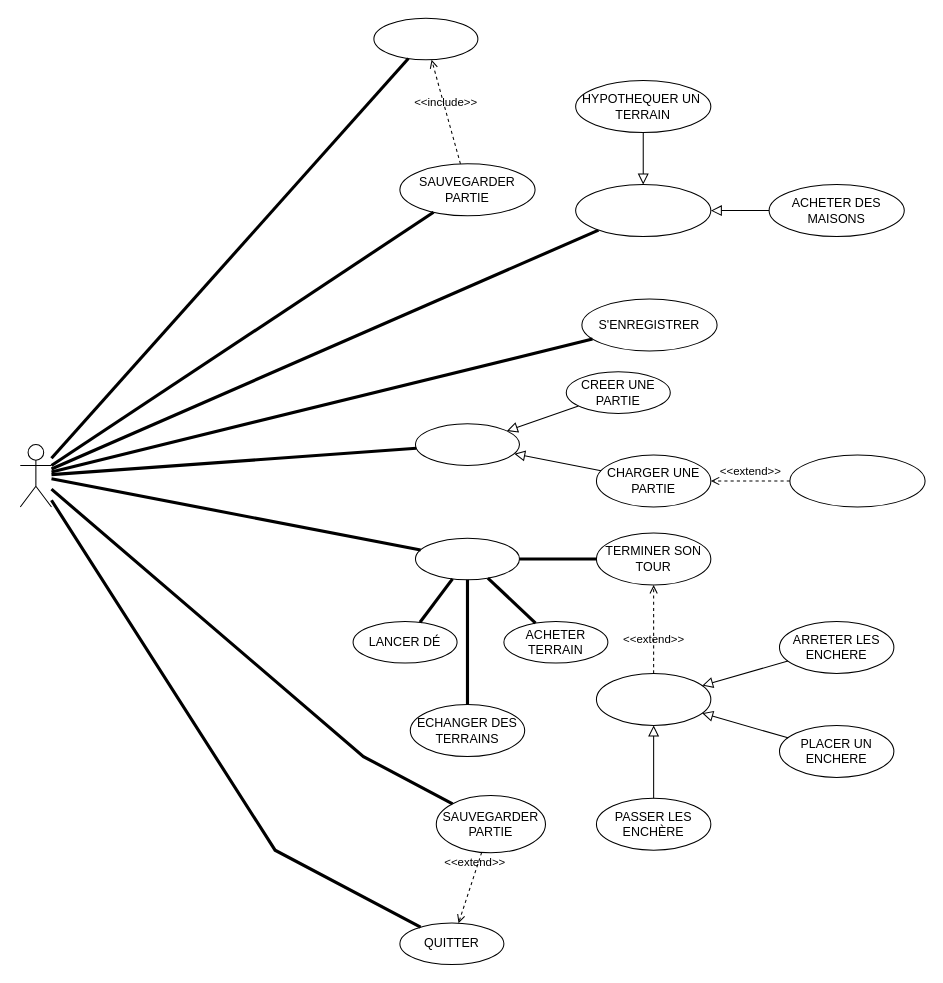
The diagram is 943 pixels wide and 983 high, and some of its shapes have lost their labels. The centre of each missing label's shape, as x and y in pixels:
"COMMENCER" goes at point 466,444.
"ENCHERIRE" goes at point 653,698.
"GERER TERRAIN" goes at point 643,210.
"JOUER" goes at point 466,558.
"Player" goes at point 35,475.
"SE CONNECTER" goes at point 425,38.
"SUPPRIMER UNE SAUVEGARDE" goes at point 857,480.
